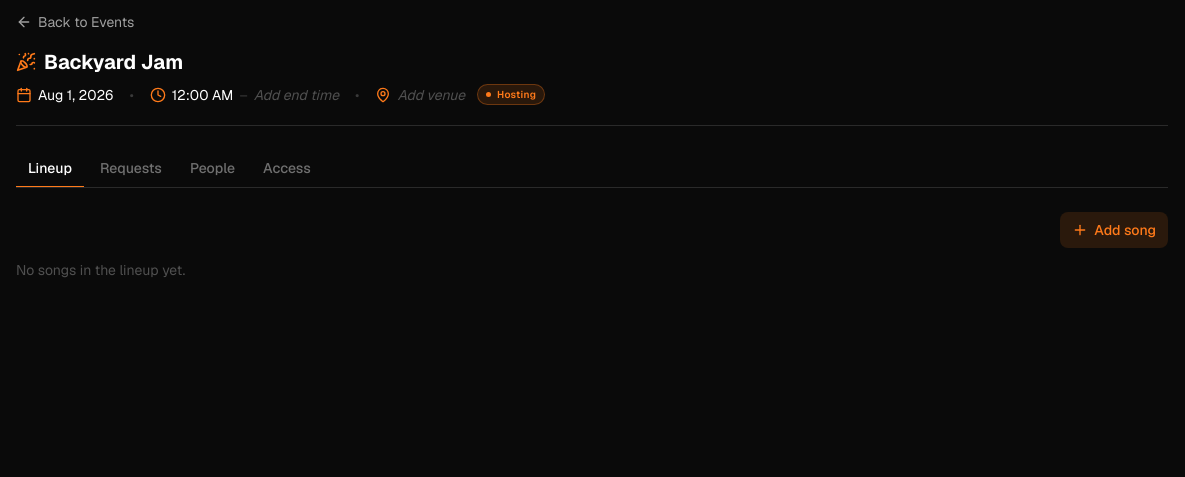
Test: EventDetailPage — request "I'd play" part chips (E) › renders the fixed-five offer chips on the request form
Step 1. Click the button with test id "event-tab-requests" → [131, 169], box 88,150 -> 174,188
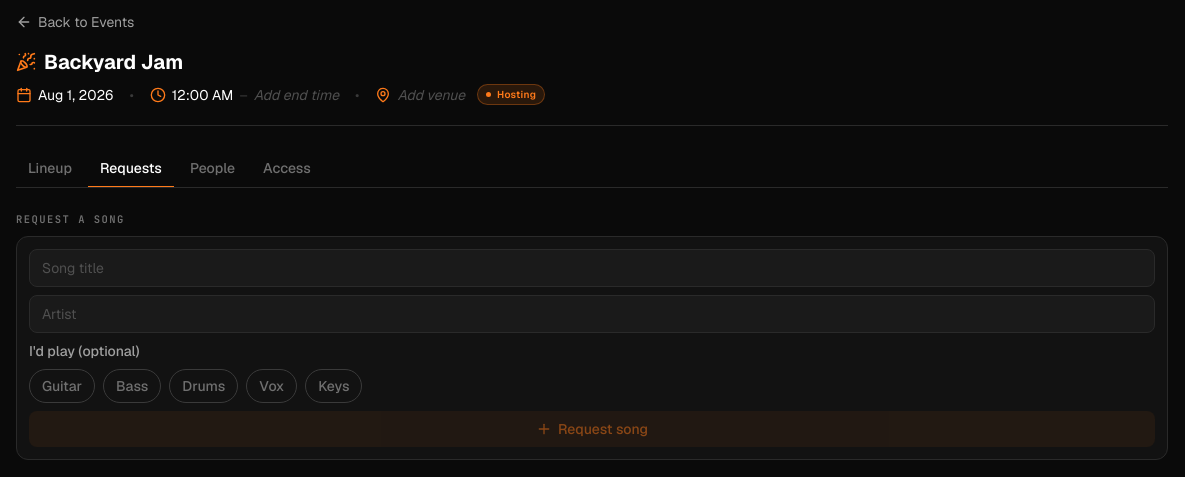
Result: the button with test id "event-offer-part-guitar" is shown at 29,369 -> 95,403
Result: the button with test id "event-offer-part-vox" is shown at 246,369 -> 297,403
